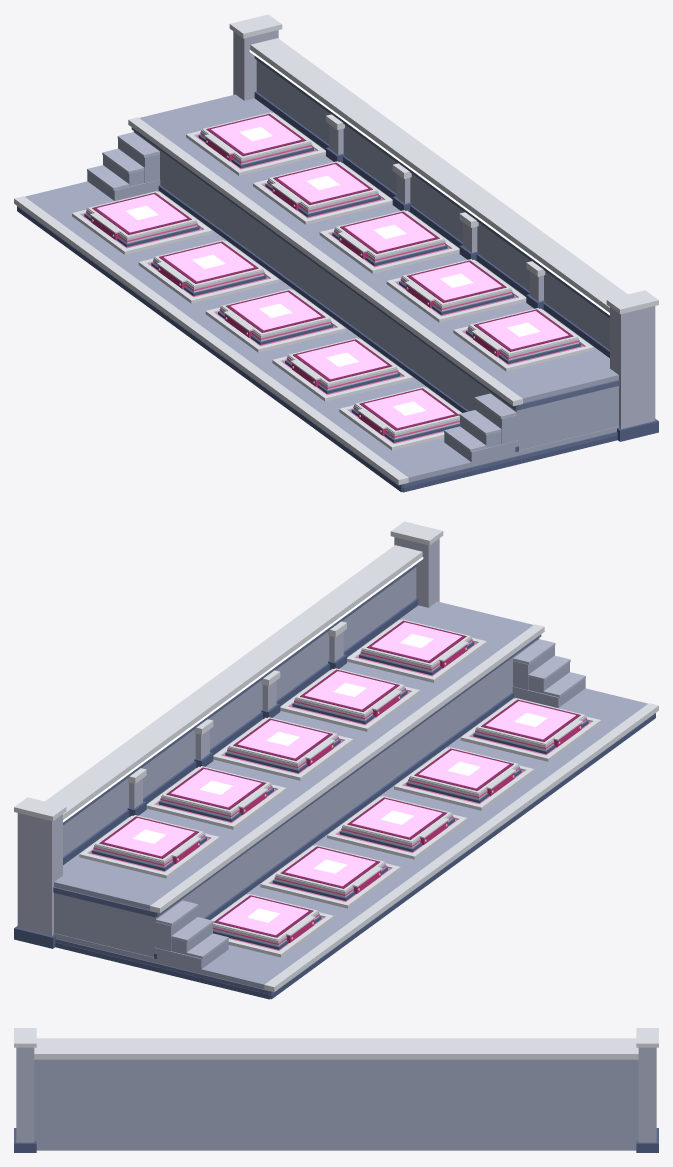
File: GunStand_2Tiers_StandOnly_SamePads.glb
3 renders of one model, top to bottom at view 1: azimuth 30°, elevation 25°; view 2: azimuth 150°, elevation 25°; view 3: azimuth 270°, elevation 25°, orthographic. The views are drawn at different scales.
Parts seen in each view (by area): view 1: ArmoryTier_201, ArmoryTierTop_200, ArmoryTierTop_209, BackCoping_179, ArmoryBack_182, TierCoping_197, TierCoping_206, CornerPost_166, BackKick_181, TierKick_199, TierKick_208, StateTop_133 (+22 smaller); view 2: ArmoryTier_201, ArmoryTierTop_200, ArmoryTierTop_209, BackCoping_179, ArmoryBack_182, TierCoping_197, TierCoping_206, CornerPost_163, BackKick_181, TierKick_199, TierKick_208, StateTop_101 (+22 smaller); view 3: ArmoryBack_182, BackCoping_179, TierCoping_206, CornerPost_163, CornerPost_166, TierCoping_197, CornerCap_161, CornerCap_164, CornerBase_162, CornerBase_165.
Boxes of the visible parts, left/top/right/bottom form: ArmoryTier_201: left=133, top=131, right=618, bottom=450; ArmoryTierTop_200: left=139, top=94, right=618, bottom=400; ArmoryTierTop_209: left=25, top=181, right=619, bottom=479; BackCoping_179: left=250, top=38, right=627, bottom=312; ArmoryBack_182: left=256, top=60, right=609, bottom=349; TierCoping_197: left=128, top=117, right=522, bottom=406; TierCoping_206: left=14, top=196, right=408, bottom=484; CornerPost_166: left=610, top=306, right=655, bottom=429; BackKick_181: left=254, top=91, right=609, bottom=357; TierKick_199: left=158, top=185, right=518, bottom=451; TierKick_208: left=17, top=206, right=402, bottom=492; StateTop_133: left=163, top=243, right=253, bottom=281; ArmoryTier_201: left=54, top=638, right=539, bottom=957; ArmoryTierTop_200: left=54, top=601, right=533, bottom=907; ArmoryTierTop_209: left=53, top=688, right=647, bottom=986; BackCoping_179: left=45, top=545, right=422, bottom=819; ArmoryBack_182: left=63, top=567, right=416, bottom=856; TierCoping_197: left=150, top=624, right=544, bottom=913; TierCoping_206: left=264, top=703, right=658, bottom=991; CornerPost_163: left=17, top=813, right=62, bottom=936; BackKick_181: left=63, top=598, right=418, bottom=864; TierKick_199: left=154, top=692, right=514, bottom=958; TierKick_208: left=270, top=713, right=655, bottom=999; StateTop_101: left=419, top=750, right=509, bottom=788; ArmoryBack_182: left=34, top=1059, right=638, bottom=1150; BackCoping_179: left=34, top=1043, right=638, bottom=1059; TierCoping_206: left=36, top=1038, right=636, bottom=1042; CornerPost_163: left=638, top=1047, right=656, bottom=1142; CornerPost_166: left=16, top=1047, right=34, bottom=1142; TierCoping_197: left=36, top=1042, right=636, bottom=1042; CornerCap_161: left=636, top=1028, right=658, bottom=1047; CornerCap_164: left=14, top=1028, right=36, bottom=1047; CornerBase_162: left=636, top=1128, right=658, bottom=1152; CornerBase_165: left=14, top=1128, right=36, bottom=1152.
Size of the model in its own units: 16.9 by 8.3 by 44.4.
